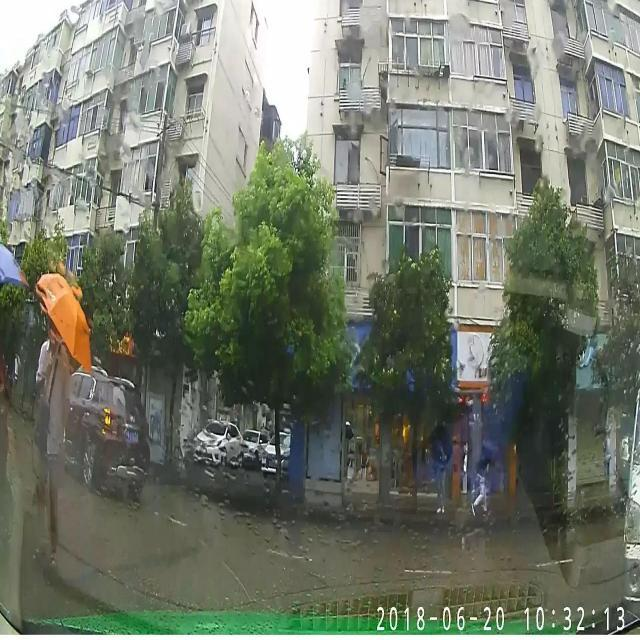car: (46, 352, 150, 500), (622, 379, 638, 599), (194, 416, 242, 468), (262, 432, 292, 478), (238, 428, 271, 463)
